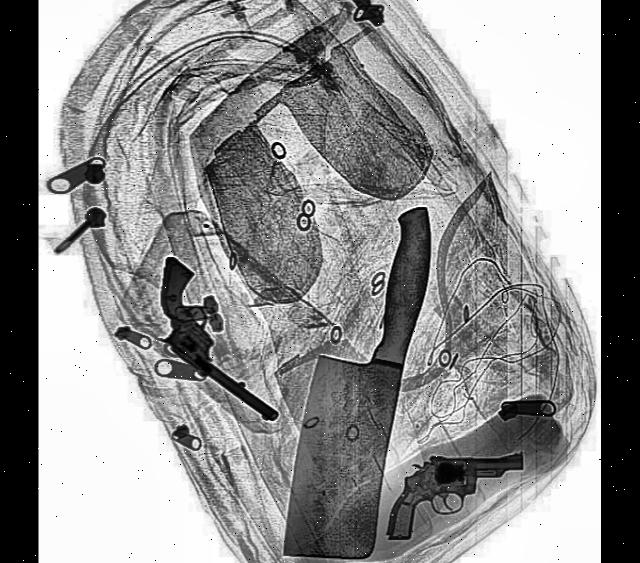Gun: (133, 253, 306, 427), (381, 446, 526, 545)
Knife: (275, 180, 440, 563)
